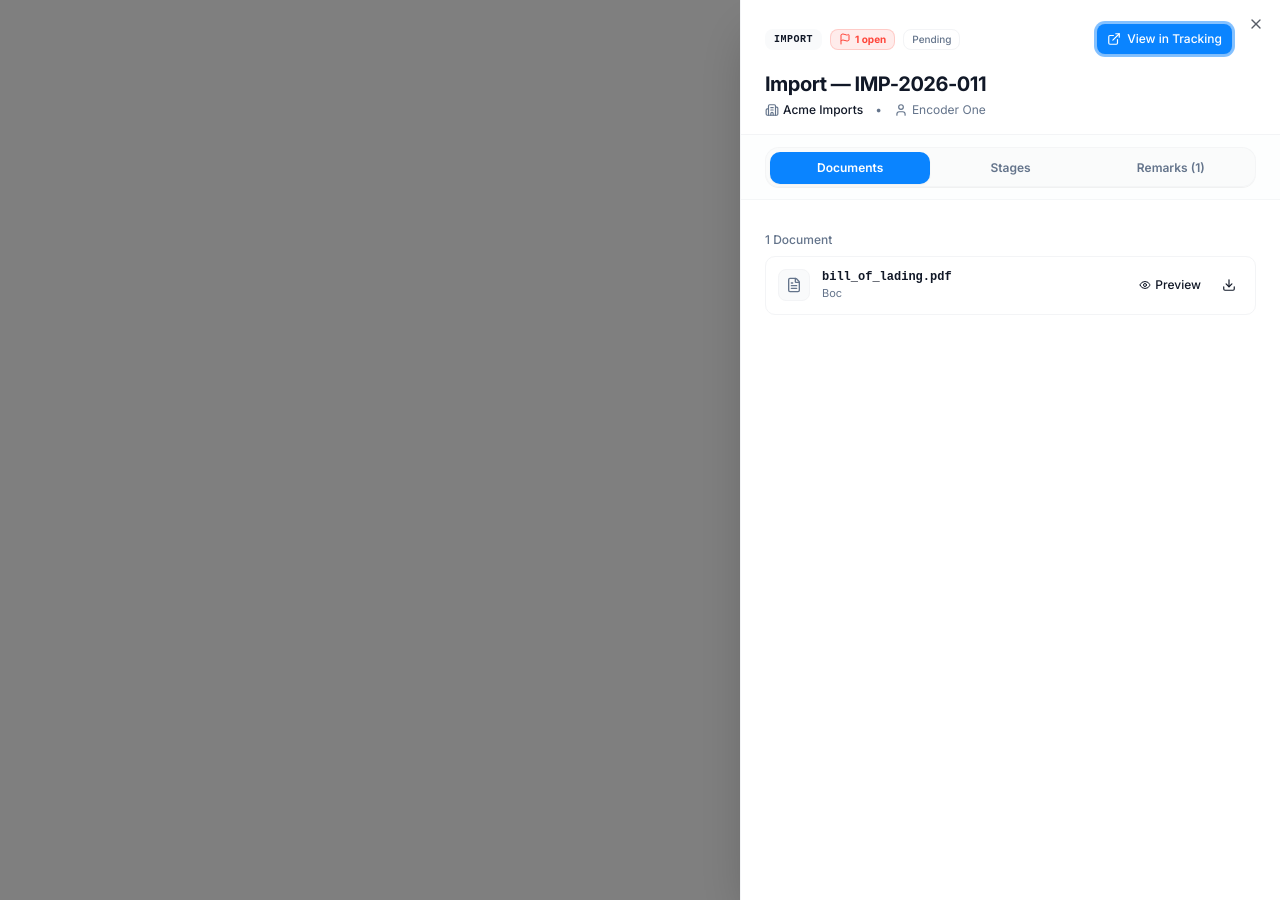
Test case: TransactionDetailDrawer › switches between Documents, Stages and Remarks tabs
The image size is (1280, 900).
Press the mouse on the tab "Stages" at (1010, 168), box [930,152,1091,184]
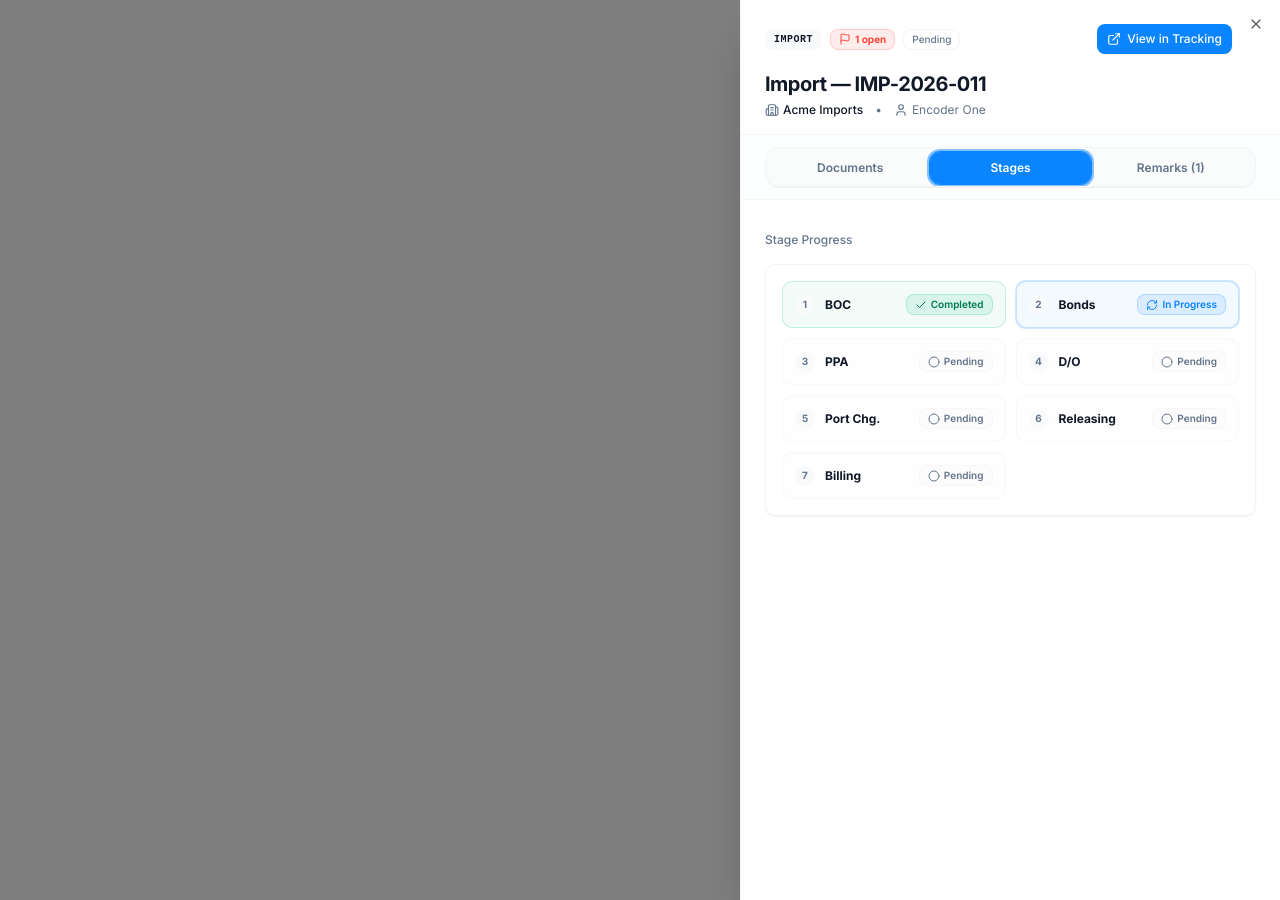
Expected: the text "Stage Progress" is shown, [765,232,853,247]
Expected: the element titled "BOC: completed" is shown, [782,281,1006,328]
Expected: the element titled "Bonds: in_progress" is shown, [1016,281,1239,328]
Press the mouse on the tab "Remarks (1)" at (1171, 168), box [1091,152,1251,184]
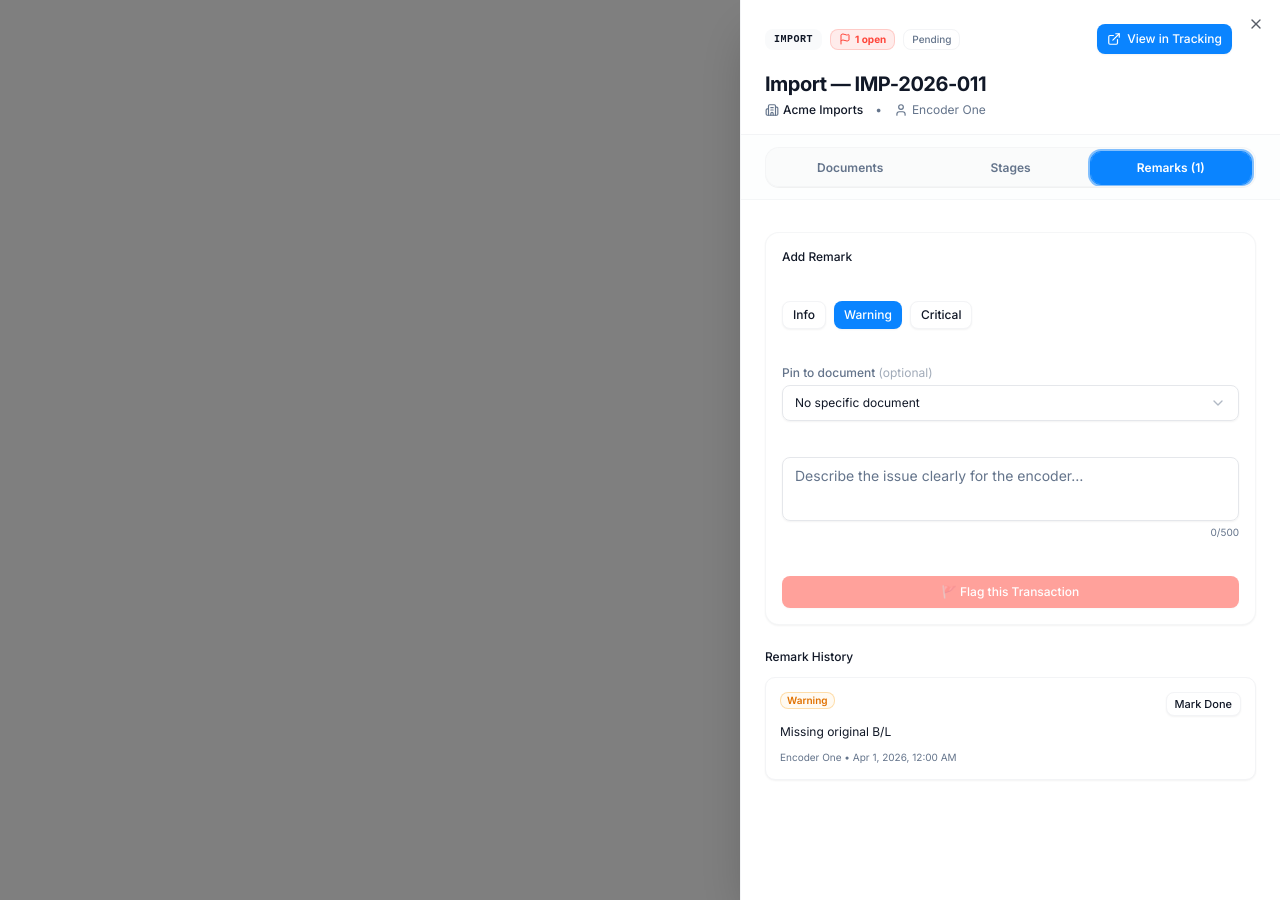
Expected: the text "Add Remark" is shown, [782,249,852,264]
Expected: the text "Missing original B/L" is shown, [780,724,891,739]
Expected: the text "Remark History" is shown, [765,649,853,664]
Press the mouse on the tab "Documents" at (850, 168), box [770,152,930,184]
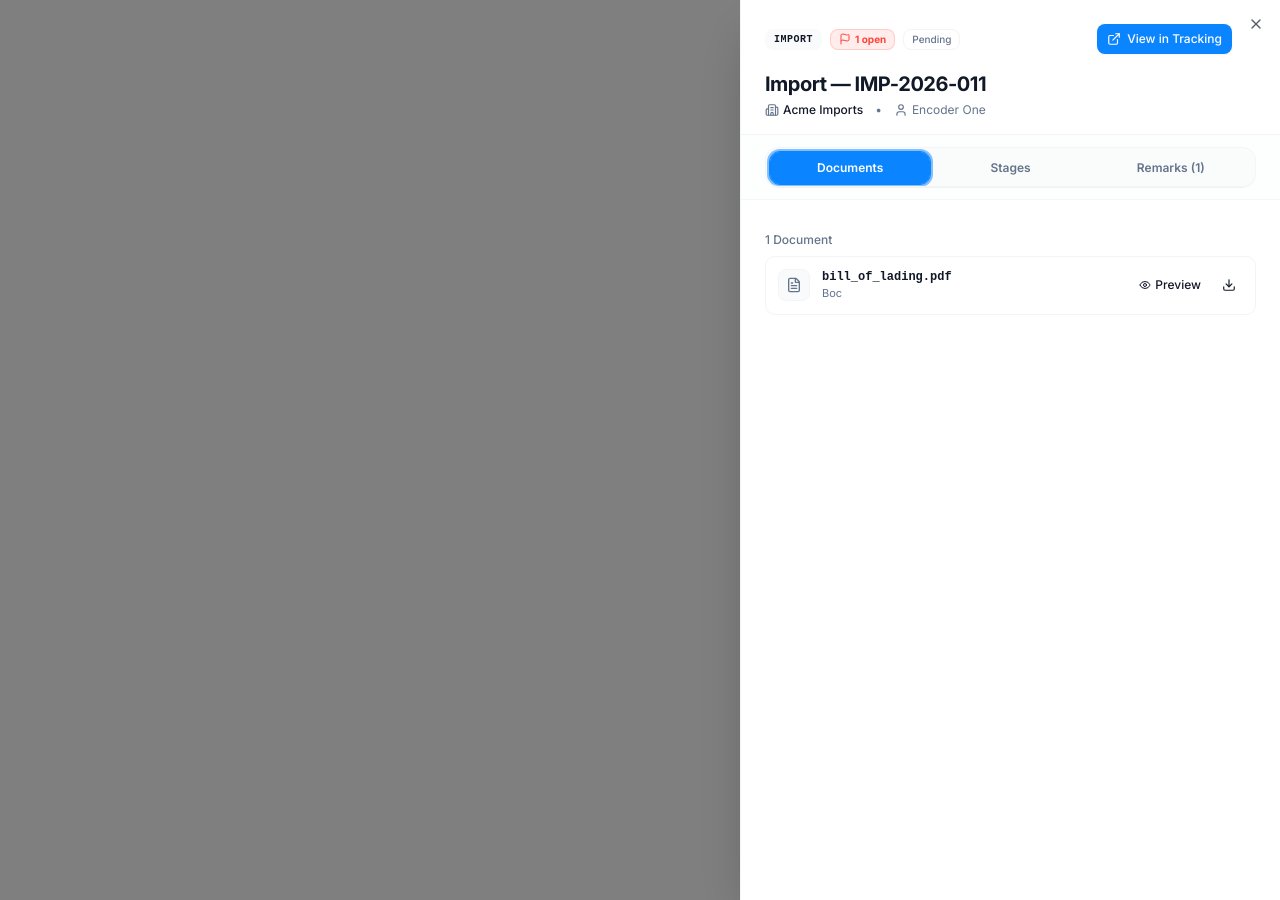
Expected: the text "bill_of_lading.pdf" is shown, [822,269,952,285]
